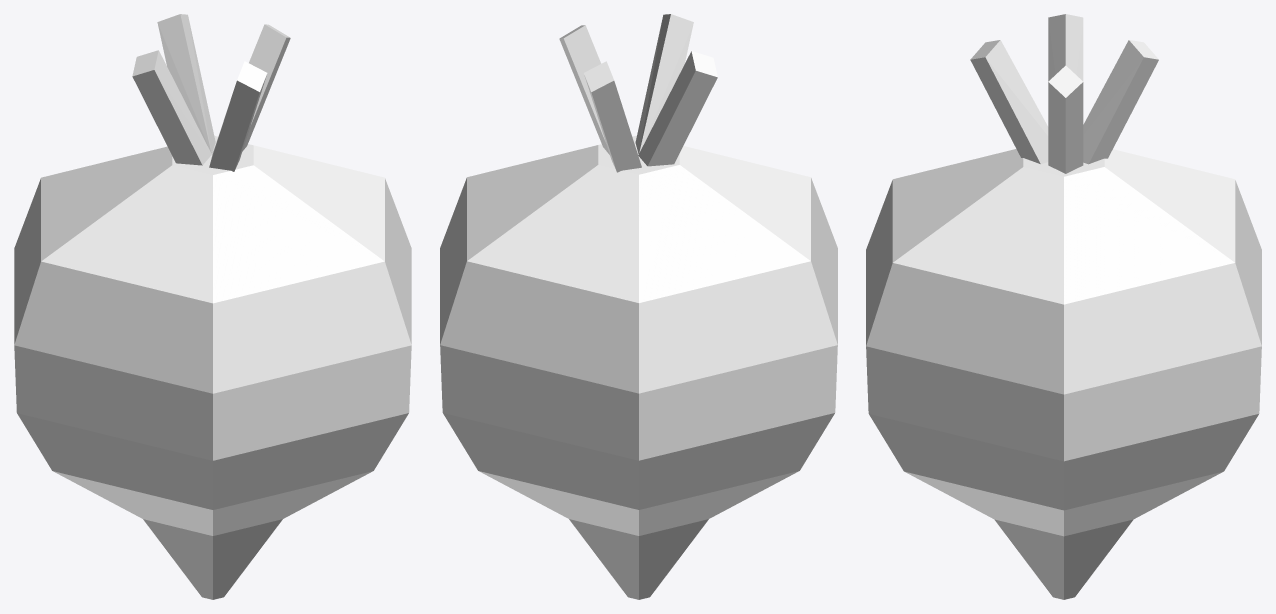
The model's file is Crop_Beetroot_02.glb.
3 views of the same model, side by side, from view 1: azimuth 30°, elevation 25°; view 2: azimuth 150°, elevation 25°; view 3: azimuth 270°, elevation 25° (orthographic).
Visible parts, largest first — view 1: Crop_Beetroot_02; view 2: Crop_Beetroot_02; view 3: Crop_Beetroot_02.
Part boxes in pixels (x1,y1,x2,y2): Crop_Beetroot_02: [14, 14, 411, 599]; Crop_Beetroot_02: [440, 14, 837, 599]; Crop_Beetroot_02: [866, 14, 1261, 599].
Bounding box in the file's own units: 0.17 × 0.2276 × 0.1472.
Materials: 1 (1 with a texture image).
